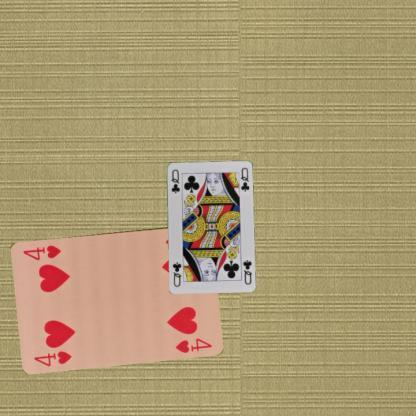4h: (32, 348, 73, 368)
Qc: (239, 257, 254, 286), (168, 166, 181, 194)
